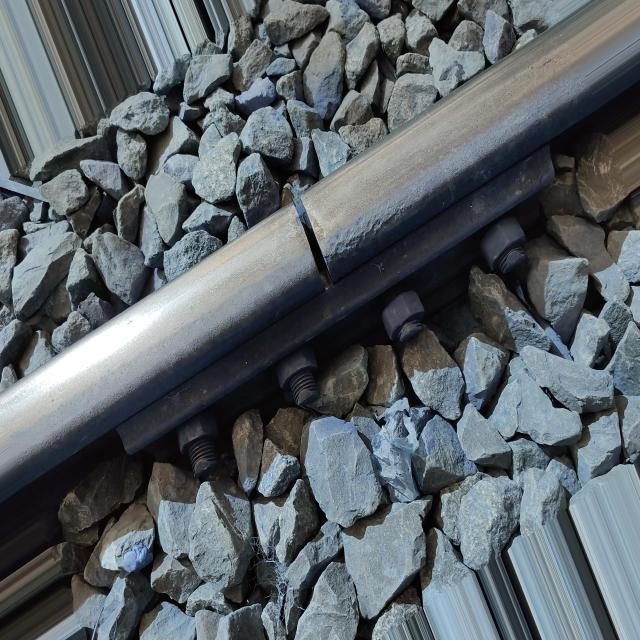Good Joint: (121, 152, 560, 492)
